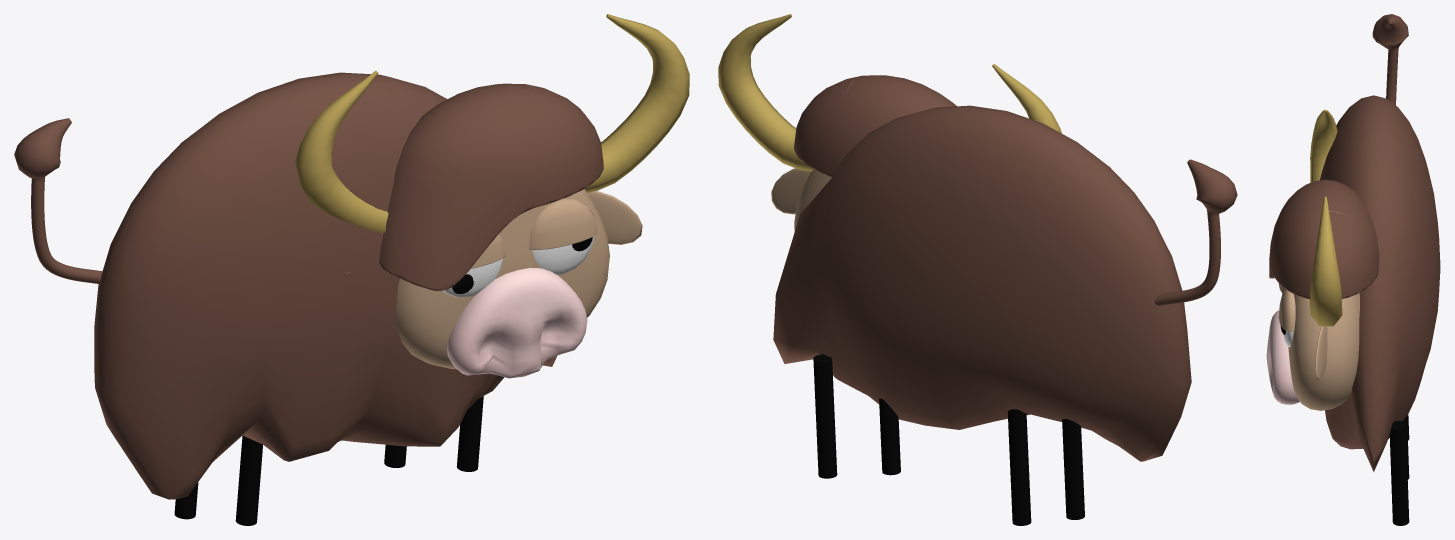
File: Kyle.obj
The picture shows the model from 3 angles, left to right: view 1: azimuth 30°, elevation 25°; view 2: azimuth 150°, elevation 25°; view 3: azimuth 270°, elevation 25°; orthographic projection. The views are drawn at different scales.
Visible parts, largest first — view 1: Quad_Sphere_3, Quad_Sphere_2, Quad_Sphere, Tube, Mirror_10, Mirror_11, Mirror_4, Mirror_5, Mirror_2, Mirror_6; view 2: Quad_Sphere_3, Tube, Quad_Sphere_2, Mirror_10, Mirror_11, Mirror_5, Quad_Sphere; view 3: Quad_Sphere_3, Quad_Sphere_2, Quad_Sphere, Tube, Mirror_10, Mirror_11, Mirror_4, Mirror_5.
Part boxes in pixels (x1,y1,x2,y2): Quad_Sphere_3: [94, 72, 556, 499]; Quad_Sphere_2: [379, 83, 603, 290]; Quad_Sphere: [396, 189, 609, 378]; Tube: [14, 118, 483, 525]; Mirror_10: [584, 14, 689, 192]; Mirror_11: [295, 71, 388, 233]; Mirror_4: [529, 198, 597, 249]; Mirror_5: [587, 191, 642, 244]; Mirror_2: [532, 236, 594, 274]; Mirror_6: [443, 258, 502, 297]; Quad_Sphere_3: [773, 105, 1191, 461]; Tube: [813, 159, 1237, 525]; Quad_Sphere_2: [794, 75, 956, 176]; Mirror_10: [718, 14, 813, 171]; Mirror_11: [992, 64, 1061, 133]; Mirror_5: [771, 168, 810, 214]; Quad_Sphere: [794, 169, 831, 231]; Quad_Sphere_3: [1320, 95, 1440, 471]; Quad_Sphere_2: [1269, 179, 1379, 299]; Quad_Sphere: [1266, 293, 1359, 410]; Tube: [1372, 14, 1409, 525]; Mirror_10: [1309, 196, 1342, 326]; Mirror_11: [1310, 109, 1337, 182]; Mirror_4: [1278, 289, 1295, 331]; Mirror_5: [1315, 326, 1327, 381].
Size of the model in its own units: 2.59 by 1.84 by 0.8074.
19 materials, 16 textured.
